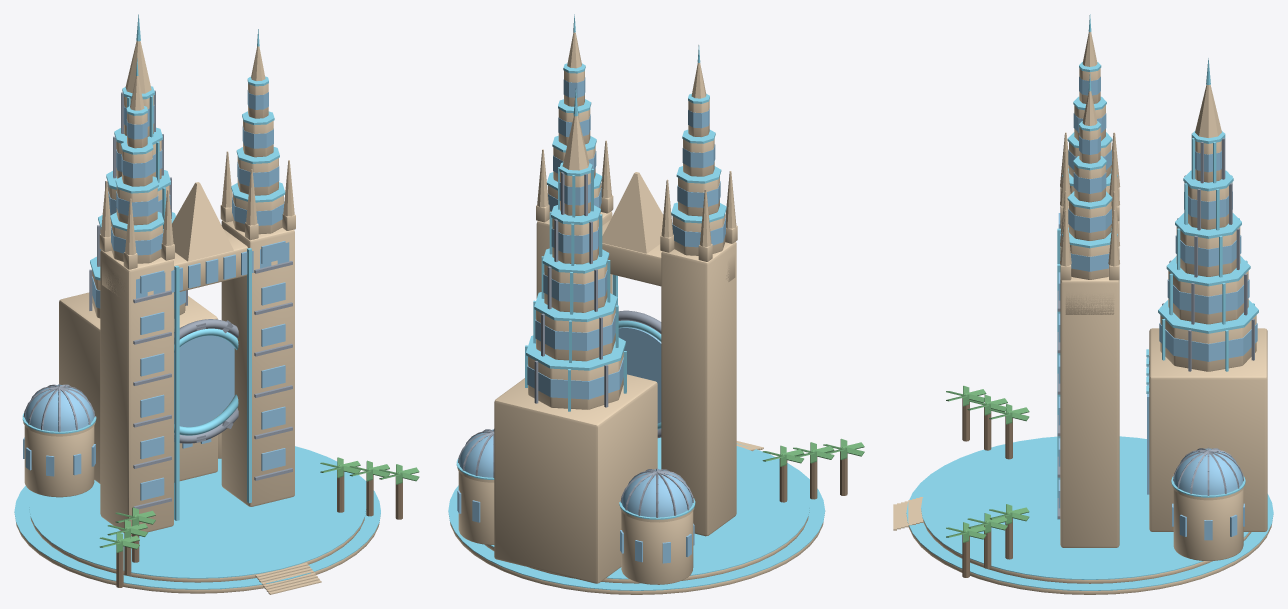
File: Puerta.fbx
3 renders of one model, left to right at view 1: azimuth 30°, elevation 25°; view 2: azimuth 150°, elevation 25°; view 3: azimuth 270°, elevation 25°, orthographic. The views are drawn at different scales.
Parts seen in each view (by area): view 1: Puerta_Cuerpo, Puerta_Luz, Puerta_Cristal, Puerta_Metal, Puerta_Hoja, Puerta_Tronco; view 2: Puerta_Cuerpo, Puerta_Luz, Puerta_Cristal, Puerta_Metal, Puerta_Hoja, Puerta_Tronco; view 3: Puerta_Cuerpo, Puerta_Luz, Puerta_Cristal, Puerta_Metal, Puerta_Hoja, Puerta_Tronco.
Part boxes in pixels (box(x1,y1,x2,y2)): Puerta_Cuerpo: box(16, 41, 379, 594); Puerta_Luz: box(14, 14, 380, 589); Puerta_Cristal: box(23, 90, 289, 500); Puerta_Metal: box(23, 90, 292, 509); Puerta_Hoja: box(99, 457, 419, 552); Puerta_Tronco: box(116, 470, 402, 587); Puerta_Cuerpo: box(450, 32, 823, 594); Puerta_Luz: box(448, 14, 825, 590); Puerta_Cristal: box(457, 77, 725, 563); Puerta_Metal: box(458, 172, 693, 517); Puerta_Hoja: box(762, 438, 864, 466); Puerta_Tronco: box(779, 451, 847, 502); Puerta_Cuerpo: box(893, 32, 1271, 594); Puerta_Luz: box(906, 14, 1273, 590); Puerta_Cristal: box(1058, 76, 1257, 540); Puerta_Metal: box(1057, 133, 1254, 518); Puerta_Hoja: box(946, 385, 1029, 542); Puerta_Tronco: box(962, 398, 1012, 577).
Bounding box in the file's own units: 13640 × 19440 × 14126.
